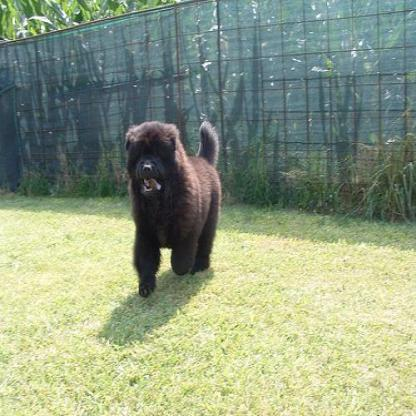chow: (121, 111, 223, 301)
